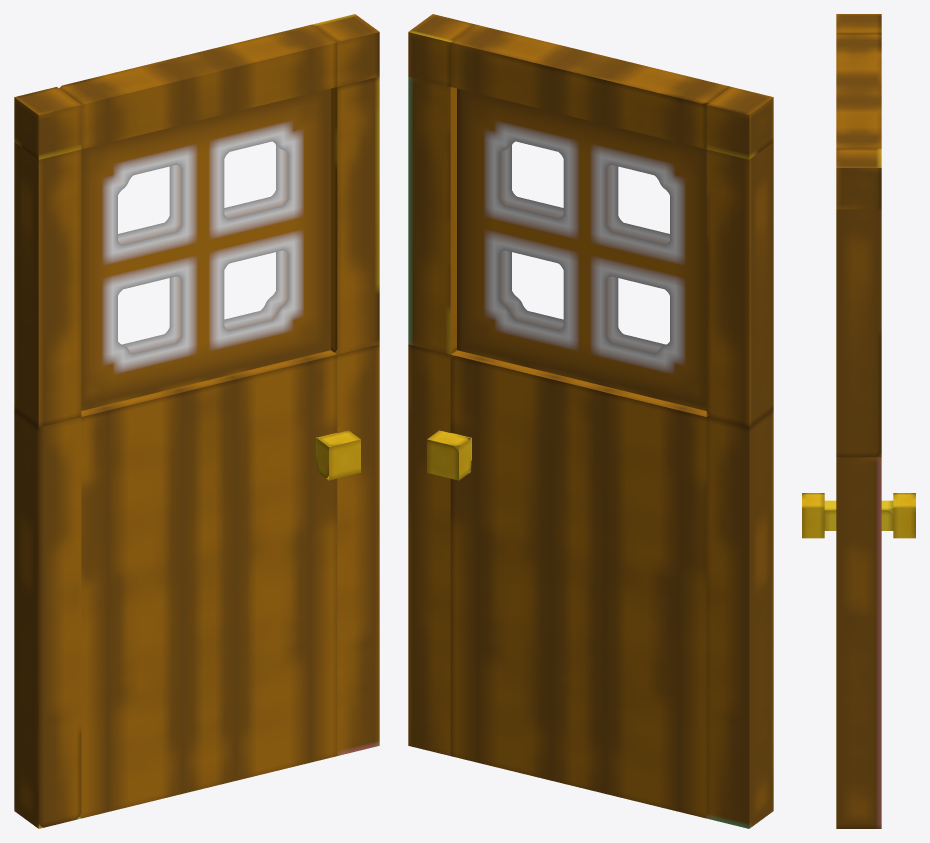
Rendered from DoorTypeA.obj.
The picture shows the model from 3 angles, left to right: view 1: azimuth 30°, elevation 25°; view 2: azimuth 150°, elevation 25°; view 3: azimuth 270°, elevation 25°; orthographic projection. The views are drawn at different scales.
Parts seen in each view (by area): view 1: cube; view 2: cube; view 3: cube.
Boxes of the visible parts, x1=… form: cube: x1=14, y1=14, x2=379, y2=828; cube: x1=408, y1=14, x2=773, y2=828; cube: x1=802, y1=14, x2=915, y2=828.
Size of the model in its own units: 2 by 4 by 0.625.
